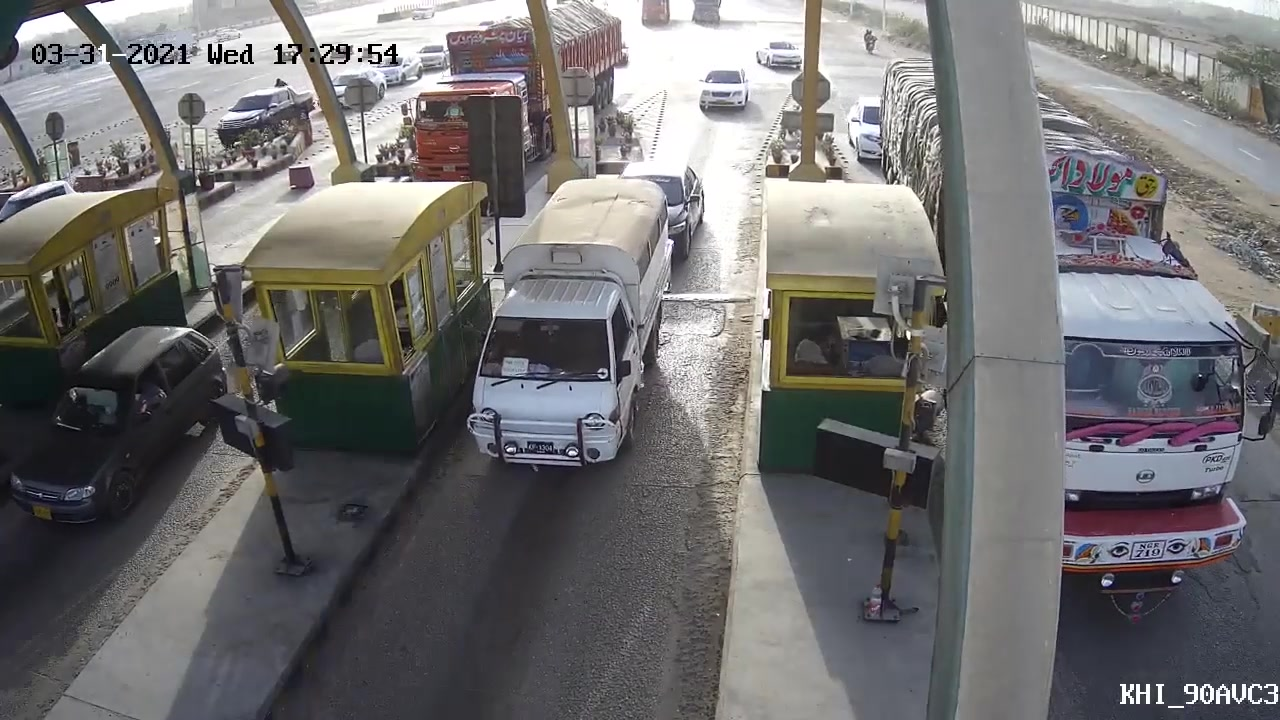F2: (450, 178, 679, 505)
